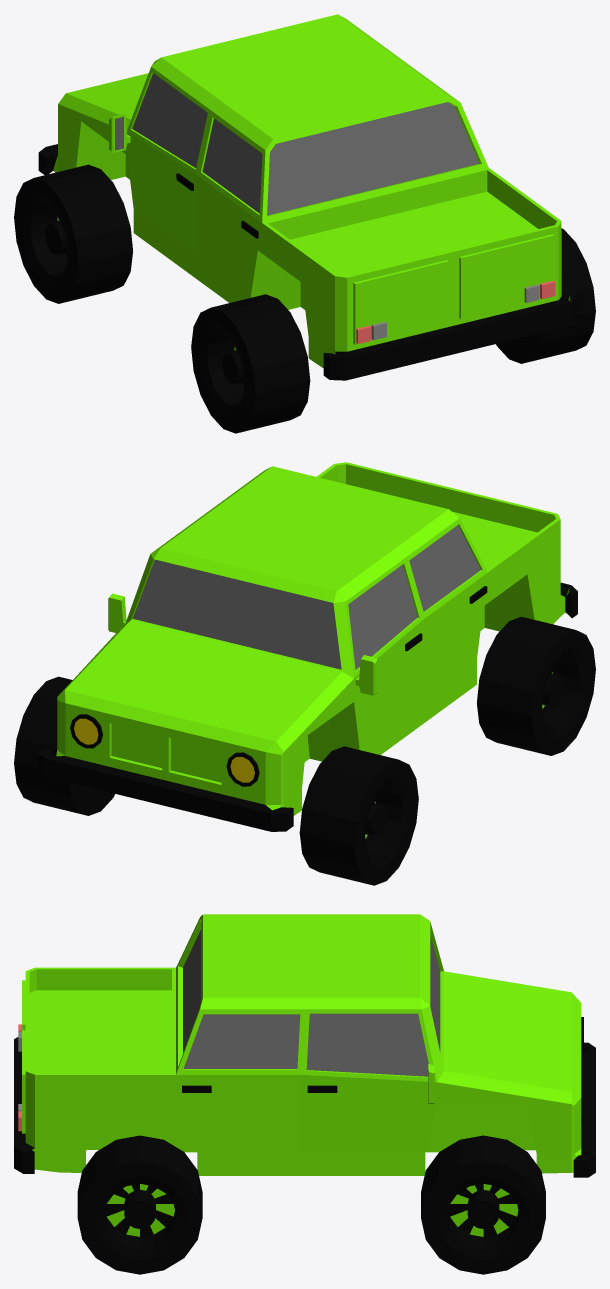
Rendered from Car003.glb.
3 renders of one model, top to bottom at view 1: azimuth 30°, elevation 25°; view 2: azimuth 150°, elevation 25°; view 3: azimuth 270°, elevation 25°, orthographic. The views are drawn at different scales.
Parts seen in each view (by area): view 1: Body, WheelRL, WheelFL, WheelRR; view 2: Body, WheelFL, WheelRL, WheelFR, FrontLight; view 3: Body, WheelRR, WheelFR.
Part boxes in pixels (x1=…): Body: x1=38, y1=14, x2=578, y2=380; WheelRL: x1=191, y1=294, x2=310, y2=433; WheelFL: x1=14, y1=164, x2=132, y2=303; WheelRR: x1=496, y1=228, x2=595, y2=363; Body: x1=37, y1=462, x2=577, y2=831; WheelFL: x1=299, y1=746, x2=418, y2=885; WheelRL: x1=477, y1=616, x2=595, y2=755; WheelFR: x1=14, y1=676, x2=114, y2=815; FrontLight: x1=70, y1=714, x2=259, y2=786; Body: x1=14, y1=914, x2=595, y2=1177; WheelRR: x1=77, y1=1135, x2=202, y2=1274; WheelFR: x1=421, y1=1135, x2=545, y2=1274.
Bounding box in the file's own units: 6.84 × 4.72 × 10.45.
Materials: 5 (5 with a texture image).
